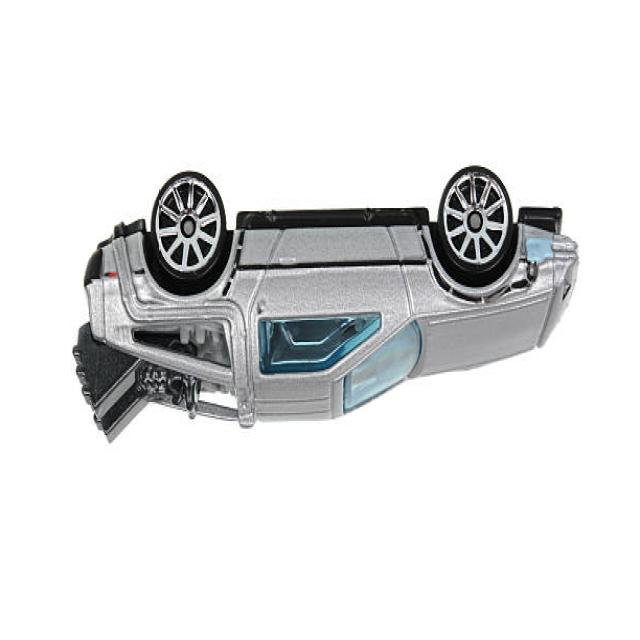Car: (74, 165, 580, 443)
